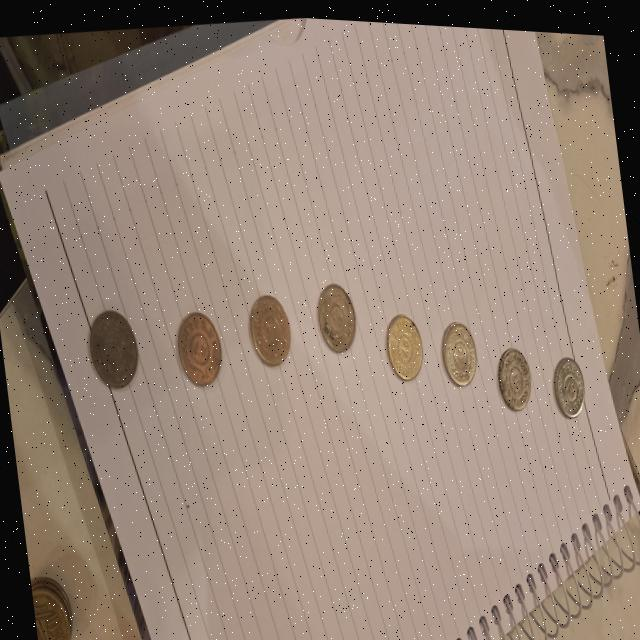Half Pound: (30, 577, 83, 640)
One Pound: (85, 300, 143, 395), (174, 293, 226, 394), (240, 281, 298, 370), (306, 269, 362, 359), (434, 308, 484, 388), (381, 300, 426, 383), (492, 331, 537, 412), (548, 340, 590, 421)
